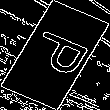P_SE: (18, 27, 92, 83)
